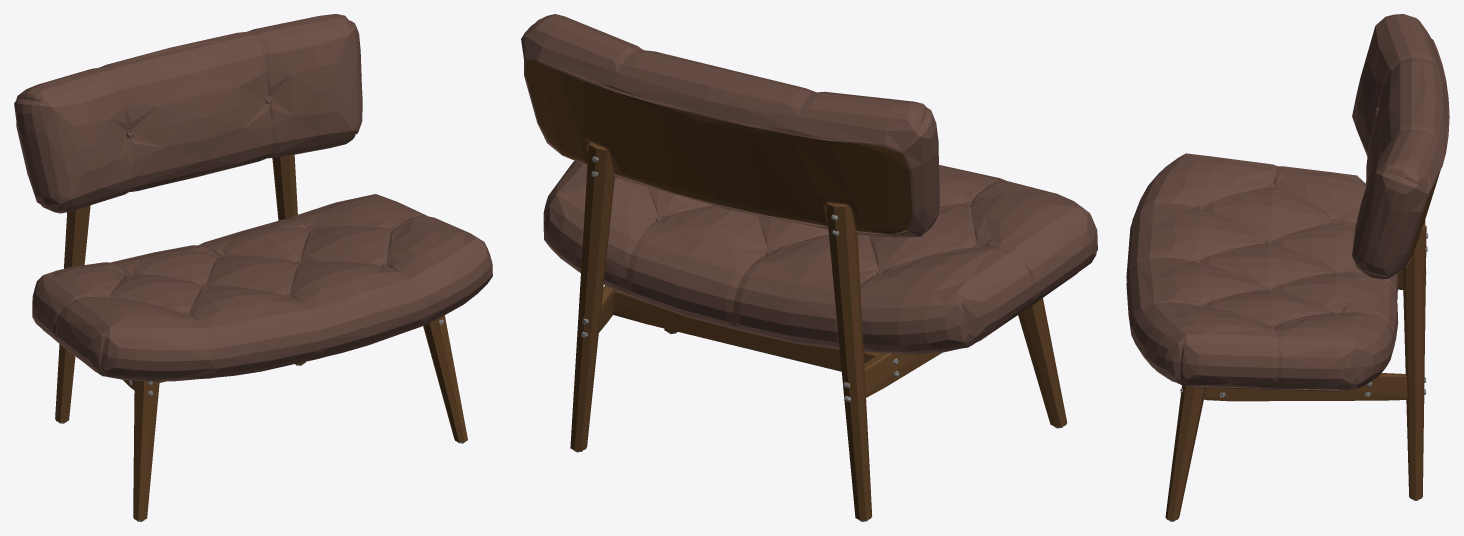
File: ChairDamaskPurplegold.glb
The picture shows the model from 3 angles, left to right: view 1: azimuth 30°, elevation 25°; view 2: azimuth 150°, elevation 25°; view 3: azimuth 270°, elevation 25°; orthographic projection. The views are drawn at different scales.
Parts seen in each view (by area): view 1: oval-tufted-chair_back-fabric, oval-tufted-chair_legs-frame; view 2: oval-tufted-chair_back-fabric, oval-tufted-chair_legs-frame; view 3: oval-tufted-chair_back-fabric, oval-tufted-chair_legs-frame.
Boxes of the visible parts, x1,y1,x2,y2 form: oval-tufted-chair_back-fabric: (14,14,492,381); oval-tufted-chair_legs-frame: (55,154,467,520); oval-tufted-chair_back-fabric: (521,14,1097,354); oval-tufted-chair_legs-frame: (525,61,1067,520); oval-tufted-chair_back-fabric: (1126,14,1449,391); oval-tufted-chair_legs-frame: (1165,170,1440,520).
Size of the model in its own units: 0.8286 by 0.6866 by 0.5716.
